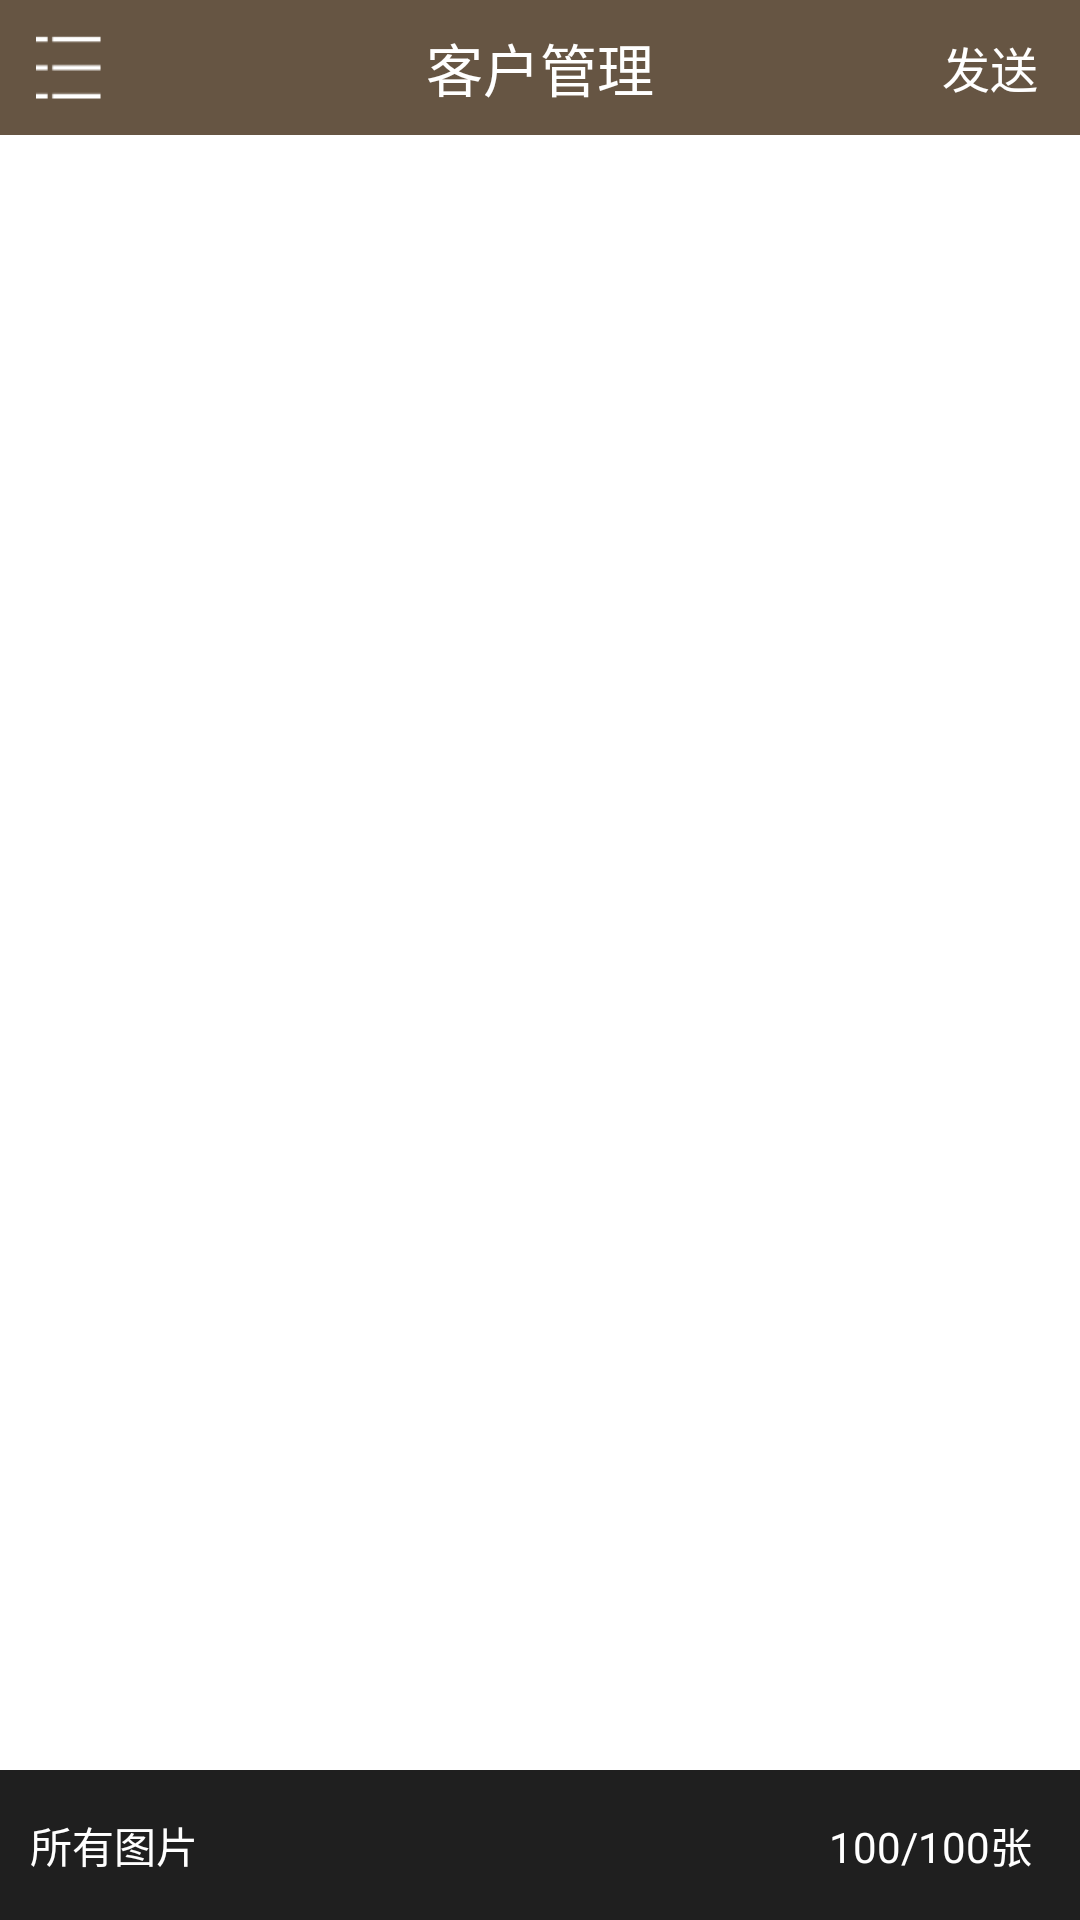

Icons on this 1080px×1920px Android screen, each with the point to tap as (x,y):
left menu: (68,67)
